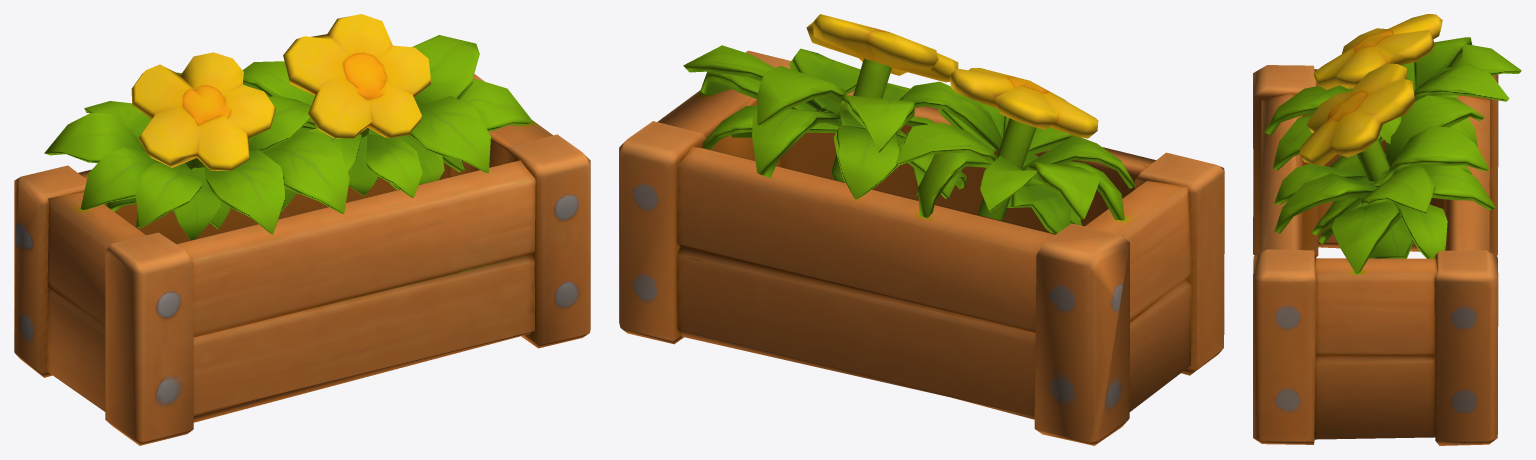
File: planter_wood.glb
3 renders of one model, left to right at view 1: azimuth 30°, elevation 25°; view 2: azimuth 150°, elevation 25°; view 3: azimuth 270°, elevation 25°, orthographic. The views are drawn at different scales.
Parts seen in each view (by area): view 1: geometry_0; view 2: geometry_0; view 3: geometry_0.
Boxes of the visible parts, box(x1,y1,x2,y2) form: geometry_0: box(14, 14, 590, 445); geometry_0: box(619, 14, 1224, 445); geometry_0: box(1253, 14, 1521, 445).
Size of the model in its own units: 0.9492 by 0.5942 by 0.5.
Materials: 1 (1 with a texture image).
